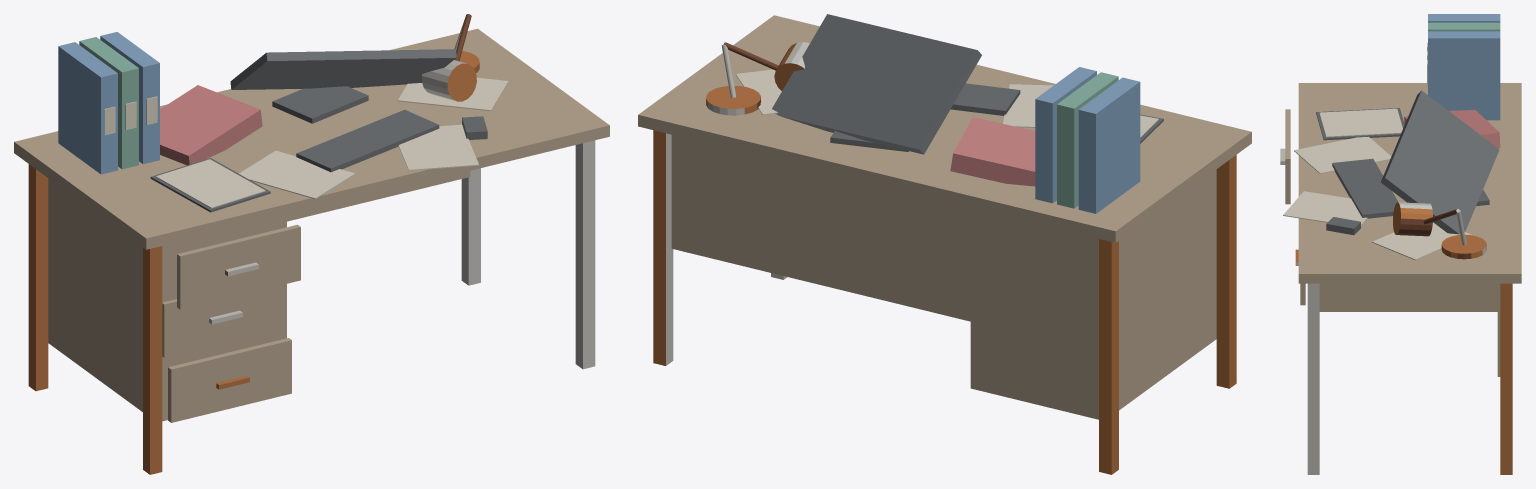
The model's file is hospital_desk_v2.fbx.
The picture shows the model from 3 angles, left to right: view 1: azimuth 30°, elevation 25°; view 2: azimuth 150°, elevation 25°; view 3: azimuth 270°, elevation 25°; orthographic projection. The views are drawn at different scales.
Parts seen in each view (by area): view 1: 06_DoctorDesk_Damaged_DeskAndProps; view 2: 06_DoctorDesk_Damaged_DeskAndProps; view 3: 06_DoctorDesk_Damaged_DeskAndProps.
Part boxes in pixels (<box>): 06_DoctorDesk_Damaged_DeskAndProps: <box>14,14,609,474</box>; 06_DoctorDesk_Damaged_DeskAndProps: <box>638,14,1251,474</box>; 06_DoctorDesk_Damaged_DeskAndProps: <box>1280,14,1521,474</box>.
Size of the model in its own units: 150 by 105 by 80.
